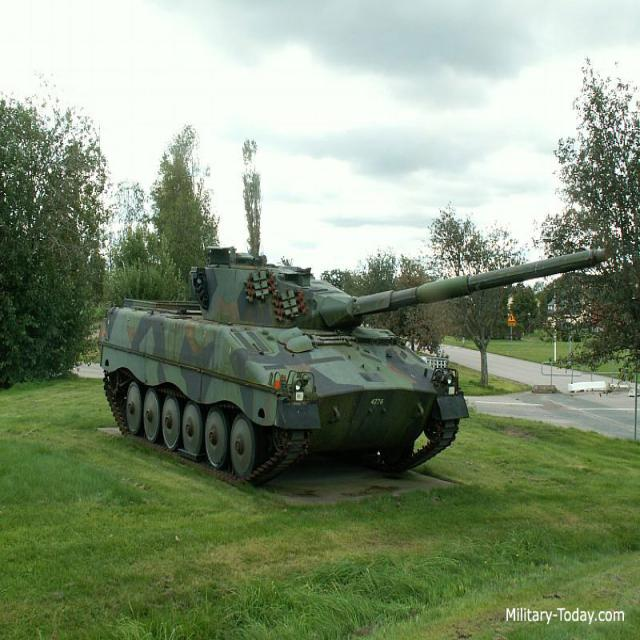Tank: (92, 186, 487, 474)
